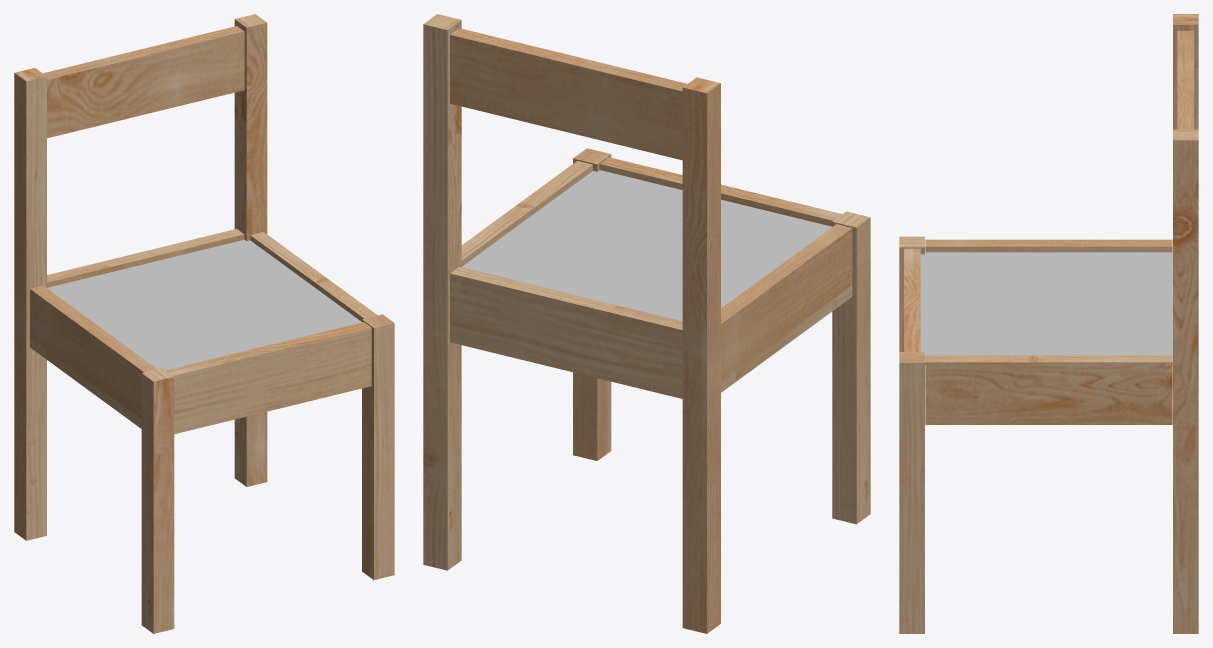
Rendered from children_chair.obj.
3 renders of one model, left to right at view 1: azimuth 30°, elevation 25°; view 2: azimuth 150°, elevation 25°; view 3: azimuth 270°, elevation 25°, orthographic. The views are drawn at different scales.
Parts seen in each view (by area): view 1: chair_Cube.001; view 2: chair_Cube.001; view 3: chair_Cube.001.
Boxes of the visible parts, left/top/right/bottom form: chair_Cube.001: left=14, top=14, right=394, bottom=633; chair_Cube.001: left=423, top=14, right=870, bottom=633; chair_Cube.001: left=899, top=14, right=1198, bottom=633.
Size of the model in its own units: 28 by 51 by 28.
